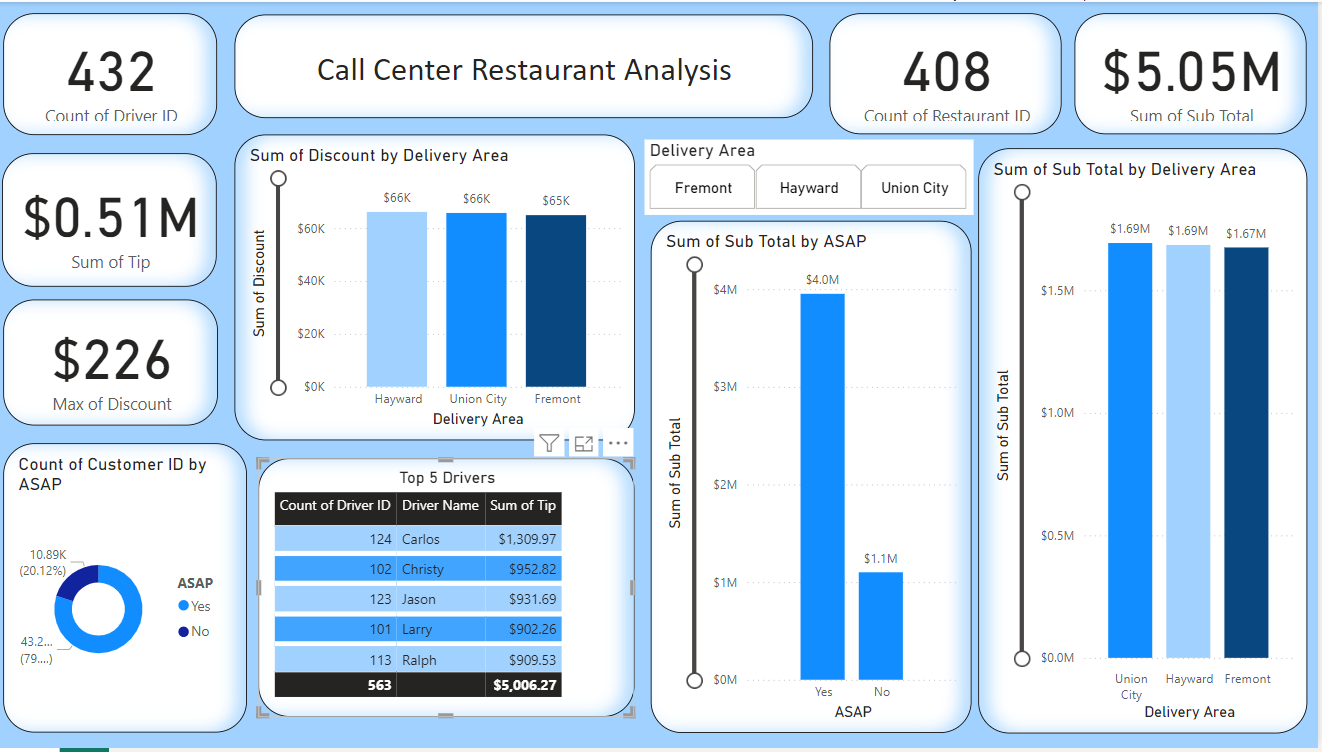

This screenshot's page, from the dashboard's own definition file:
{"tool":"powerbi","page":{"name":"Page 1","canvas":[1280,720],"ordinal":0},"visuals":[{"type":"donutChart","fields":{"Category":["Call Center_Restaurant Orders.ASAP"],"Y":["Call Center_Restaurant Orders.Customer ID"]},"box":[11.4,426.2,235.2,279.4],"z":0},{"type":"card","fields":{"Values":["Call Center_Restaurant Orders.Sub Total"]},"box":[1044.3,11.4,224.3,117.1],"z":1000},{"type":"card","fields":{"Values":["Call Center_Restaurant Orders.Restaurant ID"]},"box":[808.6,11.4,224.3,117.1],"z":2000},{"type":"card","fields":{"Values":["Call Center_Restaurant Orders.Driver ID"]},"box":[11.2,11.2,206.2,117.5],"z":3000},{"type":"clusteredColumnChart","fields":{"Category":["Call Center_Restaurant Orders.ASAP"],"Y":["Call Center_Restaurant Orders.Sub Total"]},"box":[635.7,211,309.3,494.6],"z":4000},{"type":"card","fields":{"Values":["Call Center_Restaurant Orders.Discount"]},"box":[11.2,287.5,207.5,121.2],"z":5000},{"type":"clusteredColumnChart","fields":{"Category":["Call Center_Restaurant Orders.Delivery Area"],"Y":["Call Center_Restaurant Orders.Sub Total"]},"box":[952.2,141.1,317.9,564.5],"z":6000},{"type":"card","fields":{"Values":["Call Center_Restaurant Orders.Tip"]},"box":[10,146.2,207.5,128.8],"z":7000},{"type":"textbox","box":[233.8,12,558,99.8],"z":8000},{"type":"clusteredColumnChart","fields":{"Y":["Call Center_Restaurant Orders.Discount"],"Category":["Call Center_Restaurant Orders.Delivery Area"]},"box":[233.8,128.3,386.3,295.1],"z":9000},{"type":"tableEx","title":"Top 5 Drivers","fields":{"Values":["Call Center_Restaurant Orders.Driver ID","Call Center_Restaurant Orders.Driver Name","Call Center_Restaurant Orders.Tip"]},"box":[256.6,440.4,363.5,249.4],"z":10000},{"type":"advancedSlicerVisual","fields":{"Values":["Call Center_Restaurant Orders.Delivery Area"]},"box":[630,132.6,317.9,72.7],"z":11000}]}

Visuals, with their boxes in screenshot pixels (x1, y1, x2, y2), scaled from the page's 1280x720 canvas onto the 1322x752 screenshot:
donutChart - Call Center_Restaurant Orders.ASAP x Call Center_Restaurant Orders.Customer ID: <region>12, 445, 255, 737</region>
card - Call Center_Restaurant Orders.Sub Total: <region>1079, 12, 1310, 134</region>
card - Call Center_Restaurant Orders.Restaurant ID: <region>835, 12, 1067, 134</region>
card - Call Center_Restaurant Orders.Driver ID: <region>12, 12, 225, 134</region>
clusteredColumnChart - Call Center_Restaurant Orders.ASAP x Call Center_Restaurant Orders.Sub Total: <region>657, 220, 976, 737</region>
card - Call Center_Restaurant Orders.Discount: <region>12, 300, 226, 427</region>
clusteredColumnChart - Call Center_Restaurant Orders.Delivery Area x Call Center_Restaurant Orders.Sub Total: <region>983, 147, 1312, 737</region>
card - Call Center_Restaurant Orders.Tip: <region>10, 153, 225, 287</region>
textbox: <region>241, 13, 818, 117</region>
clusteredColumnChart - Call Center_Restaurant Orders.Discount x Call Center_Restaurant Orders.Delivery Area: <region>241, 134, 640, 442</region>
"Top 5 Drivers" tableEx: <region>265, 460, 640, 720</region>
advancedSlicerVisual - Call Center_Restaurant Orders.Delivery Area: <region>651, 138, 979, 214</region>
